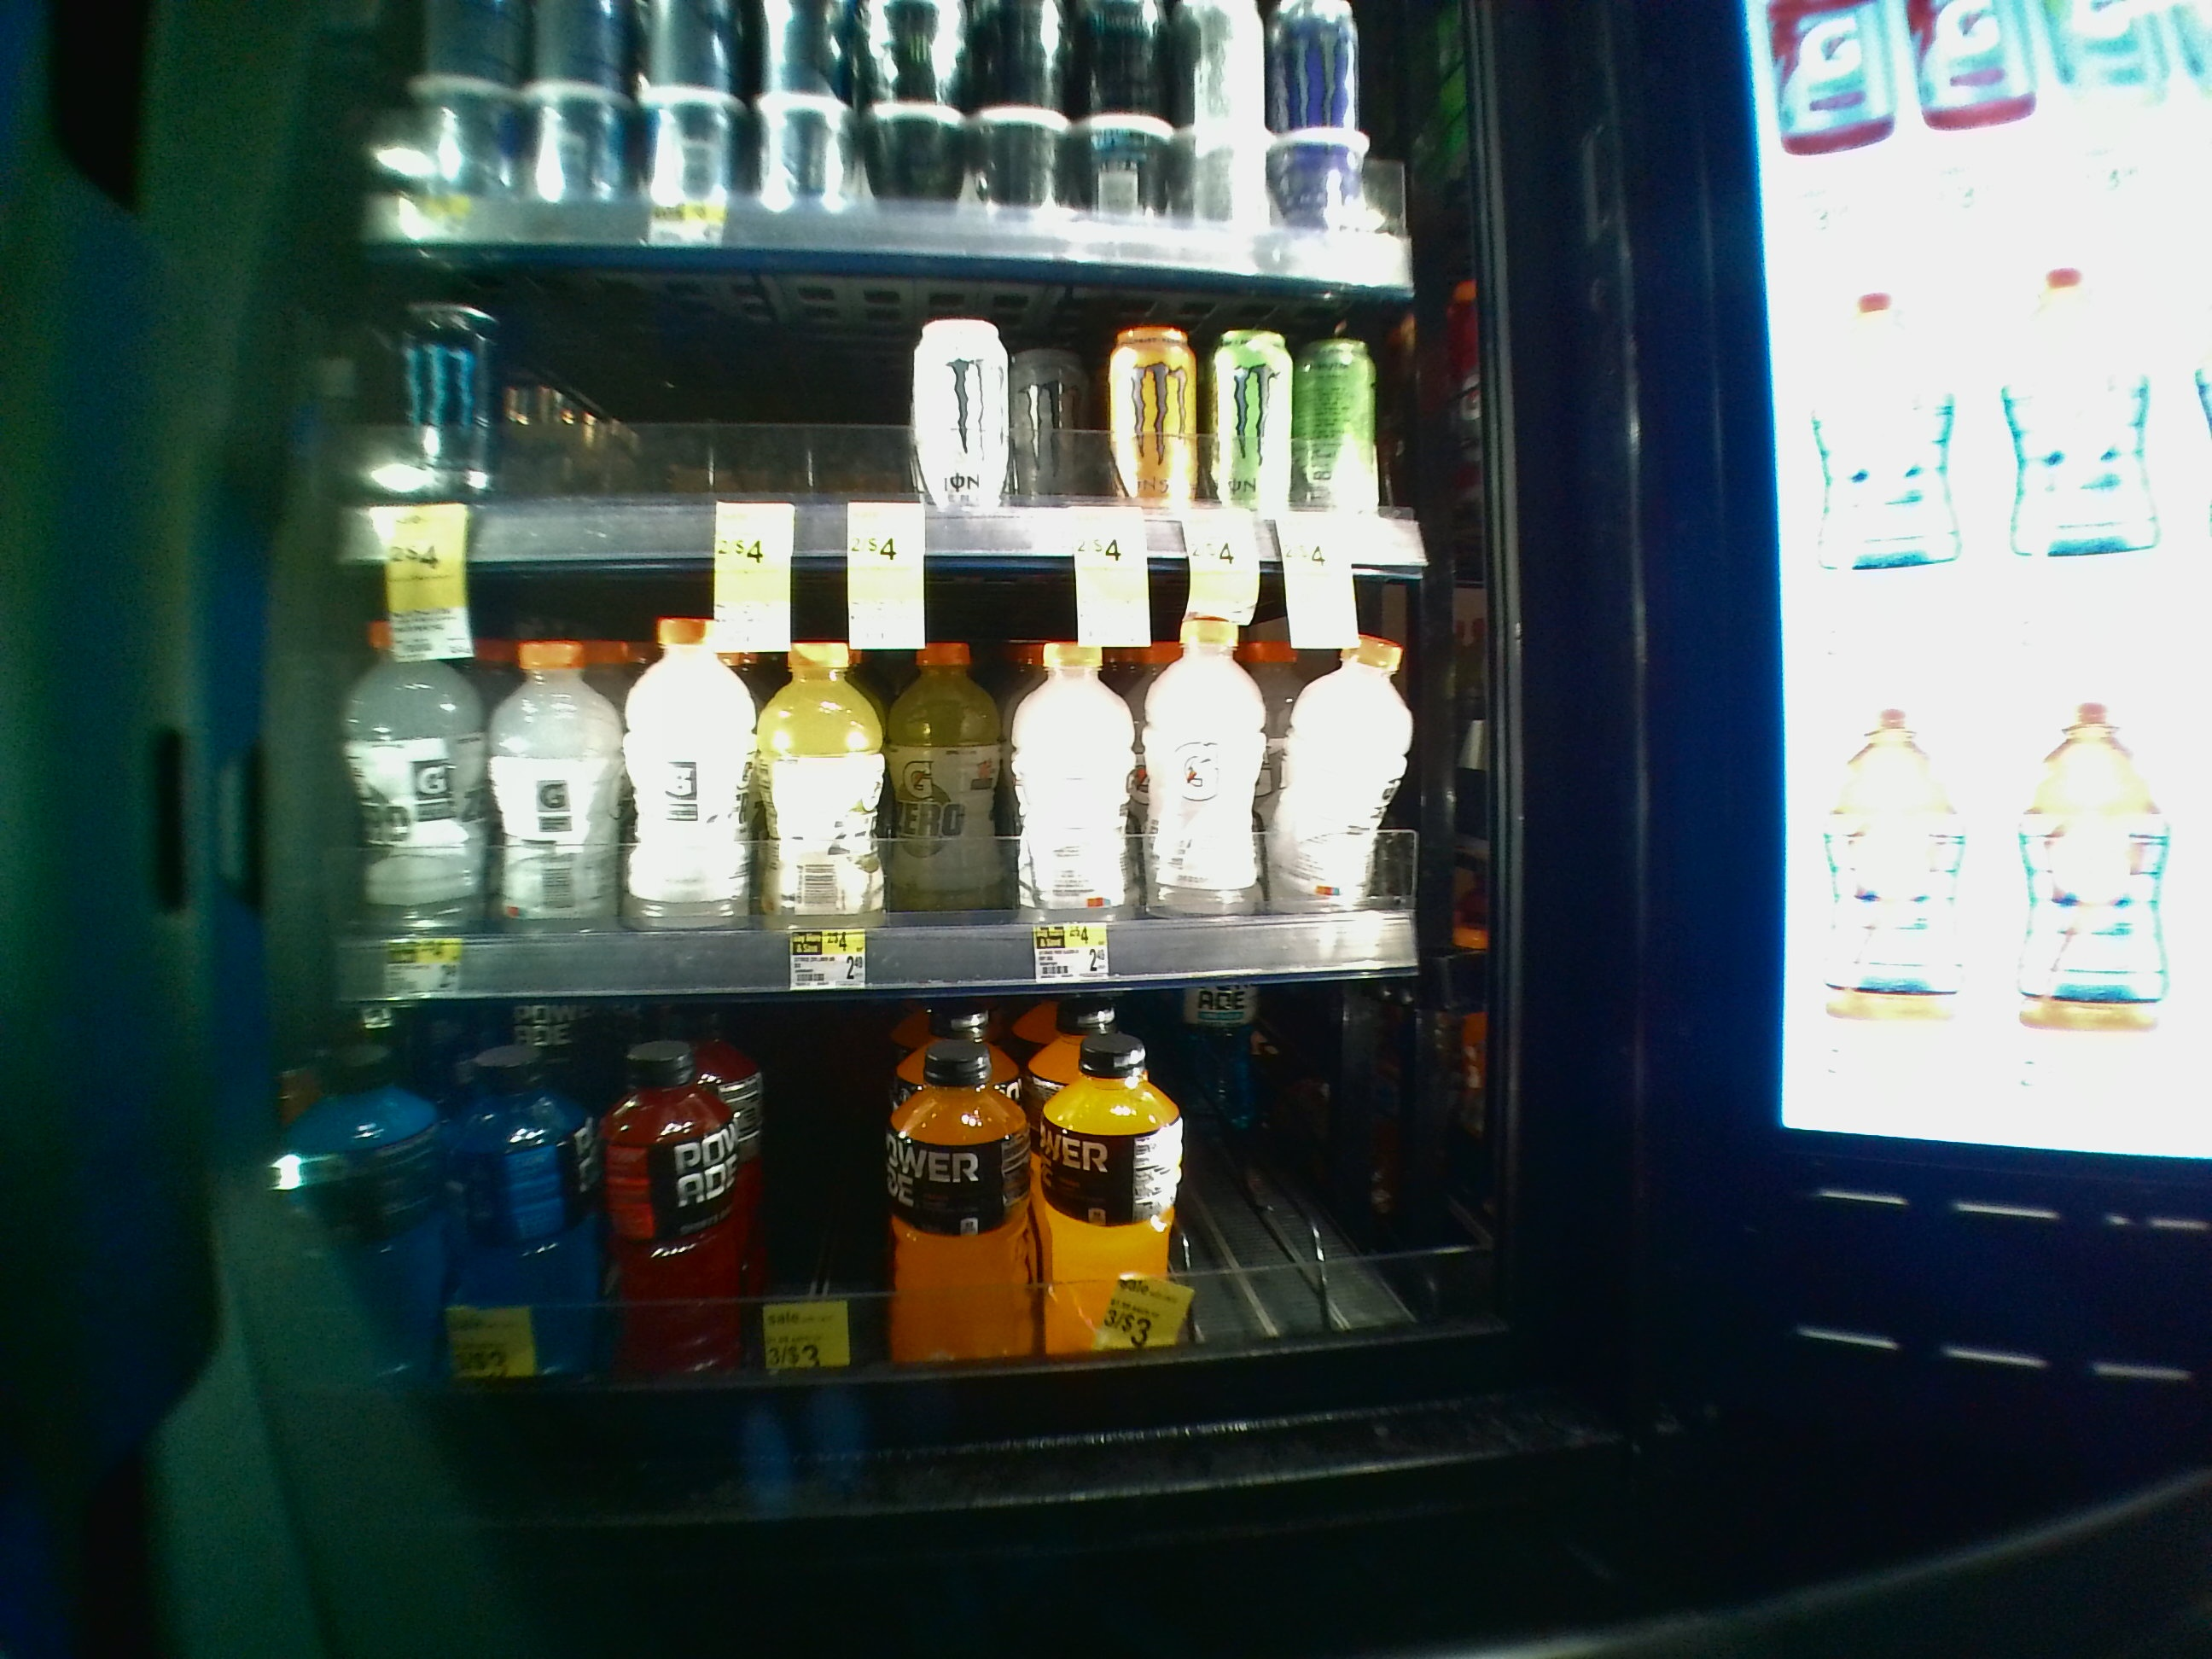shelf: (305, 558, 1501, 979), (314, 249, 1494, 573)
